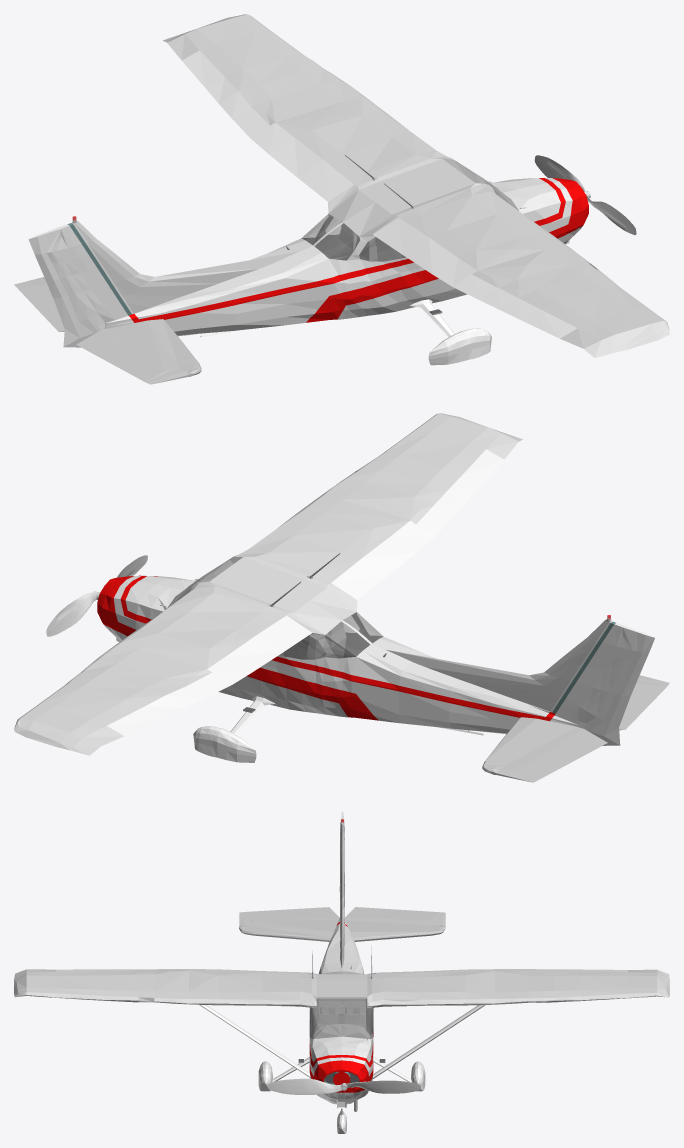
Rendered from rc_cessna.glb.
The picture shows the model from 3 angles, top to bottom: view 1: azimuth 30°, elevation 25°; view 2: azimuth 150°, elevation 25°; view 3: azimuth 270°, elevation 25°; orthographic projection. The views are drawn at different scales.
Visible parts, largest first — view 1: base_link_v51, base_link_v67, base_link_v81, base_link_v21, rudder_v0, base_link_v28, flap_l_v0, base_link_v75, flap_r_v0, base_link_v20, elevon_l_v0, elevon_r_v0 (+8 smaller); view 2: base_link_v51, base_link_v67, base_link_v81, base_link_v21, rudder_v0, base_link_v26, flap_r_v0, base_link_v75, flap_l_v0, base_link_v20, elevon_l_v0, elevon_r_v0 (+8 smaller); view 3: base_link_v51, base_link_v91, base_link_v67, base_link_v26, base_link_v28, rotor_puller_v0, base_link_v75, elevator_v2, elevator_v0, base_link_v43, base_link_v21, base_link_v6 (+1 smaller).
Part boxes in pixels (left/top/right/bottom): base_link_v51: left=163, top=14, right=669, bottom=357; base_link_v67: left=134, top=178, right=560, bottom=319; base_link_v81: left=106, top=178, right=572, bottom=336; base_link_v21: left=75, top=221, right=298, bottom=313; rudder_v0: left=28, top=227, right=105, bottom=347; base_link_v28: left=107, top=319, right=201, bottom=384; flap_l_v0: left=250, top=122, right=353, bottom=201; base_link_v75: left=306, top=178, right=588, bottom=322; flap_r_v0: left=372, top=217, right=477, bottom=286; base_link_v20: left=56, top=224, right=127, bottom=322; elevon_l_v0: left=182, top=50, right=269, bottom=138; elevon_r_v0: left=453, top=274, right=577, bottom=338; base_link_v51: left=14, top=413, right=522, bottom=755; base_link_v67: left=125, top=576, right=549, bottom=717; base_link_v81: left=113, top=575, right=578, bottom=734; base_link_v21: left=386, top=619, right=608, bottom=711; rudder_v0: left=578, top=626, right=654, bottom=745; base_link_v26: left=482, top=717, right=576, bottom=782; flap_r_v0: left=331, top=520, right=434, bottom=599; base_link_v75: left=97, top=575, right=378, bottom=720; flap_l_v0: left=207, top=615, right=311, bottom=684; base_link_v20: left=556, top=623, right=627, bottom=721; elevon_l_v0: left=107, top=672, right=231, bottom=735; elevon_r_v0: left=416, top=449, right=504, bottom=536; base_link_v51: left=14, top=969, right=669, bottom=1007; base_link_v91: left=309, top=997, right=373, bottom=1038; base_link_v67: left=309, top=923, right=373, bottom=1062; base_link_v26: left=345, top=911, right=445, bottom=941; base_link_v28: left=239, top=911, right=338, bottom=941; rotor_puller_v0: left=267, top=1078, right=420, bottom=1094; base_link_v75: left=309, top=1032, right=373, bottom=1092; elevator_v2: left=253, top=907, right=339, bottom=920; elevator_v0: left=344, top=907, right=431, bottom=920; base_link_v43: left=309, top=1024, right=373, bottom=1038; base_link_v21: left=340, top=824, right=344, bottom=969; base_link_v6: left=373, top=1005, right=485, bottom=1078.
Bounding box in the file's own units: 0.8227 × 0.2622 × 1.1.
